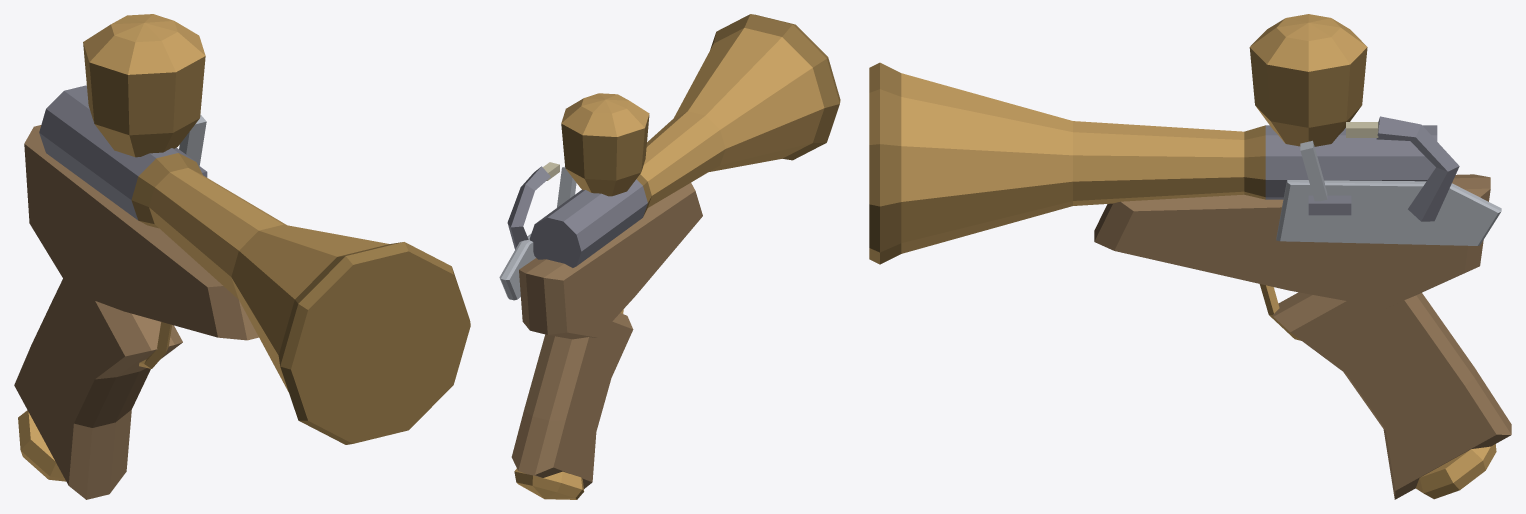
The model's file is seed_sling.glb.
3 renders of one model, left to right at view 1: azimuth 30°, elevation 25°; view 2: azimuth 150°, elevation 25°; view 3: azimuth 270°, elevation 25°, orthographic. The views are drawn at different scales.
Parts seen in each view (by area): view 1: seed_sling; view 2: seed_sling; view 3: seed_sling.
Part boxes in pixels (bbox=[...]): seed_sling: bbox=[14, 14, 470, 499]; seed_sling: bbox=[499, 14, 840, 499]; seed_sling: bbox=[869, 14, 1511, 499].
Bounding box in the file's own units: 0.19 × 0.486 × 0.5996.
